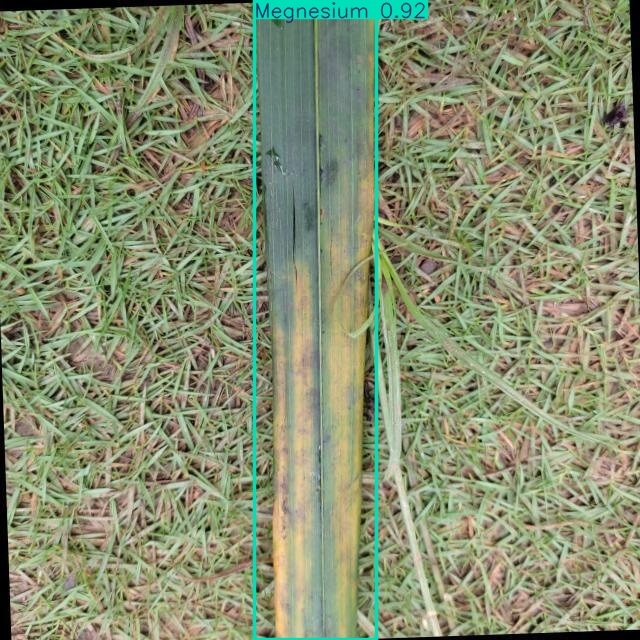Megnesium: (254, 1, 377, 640)
